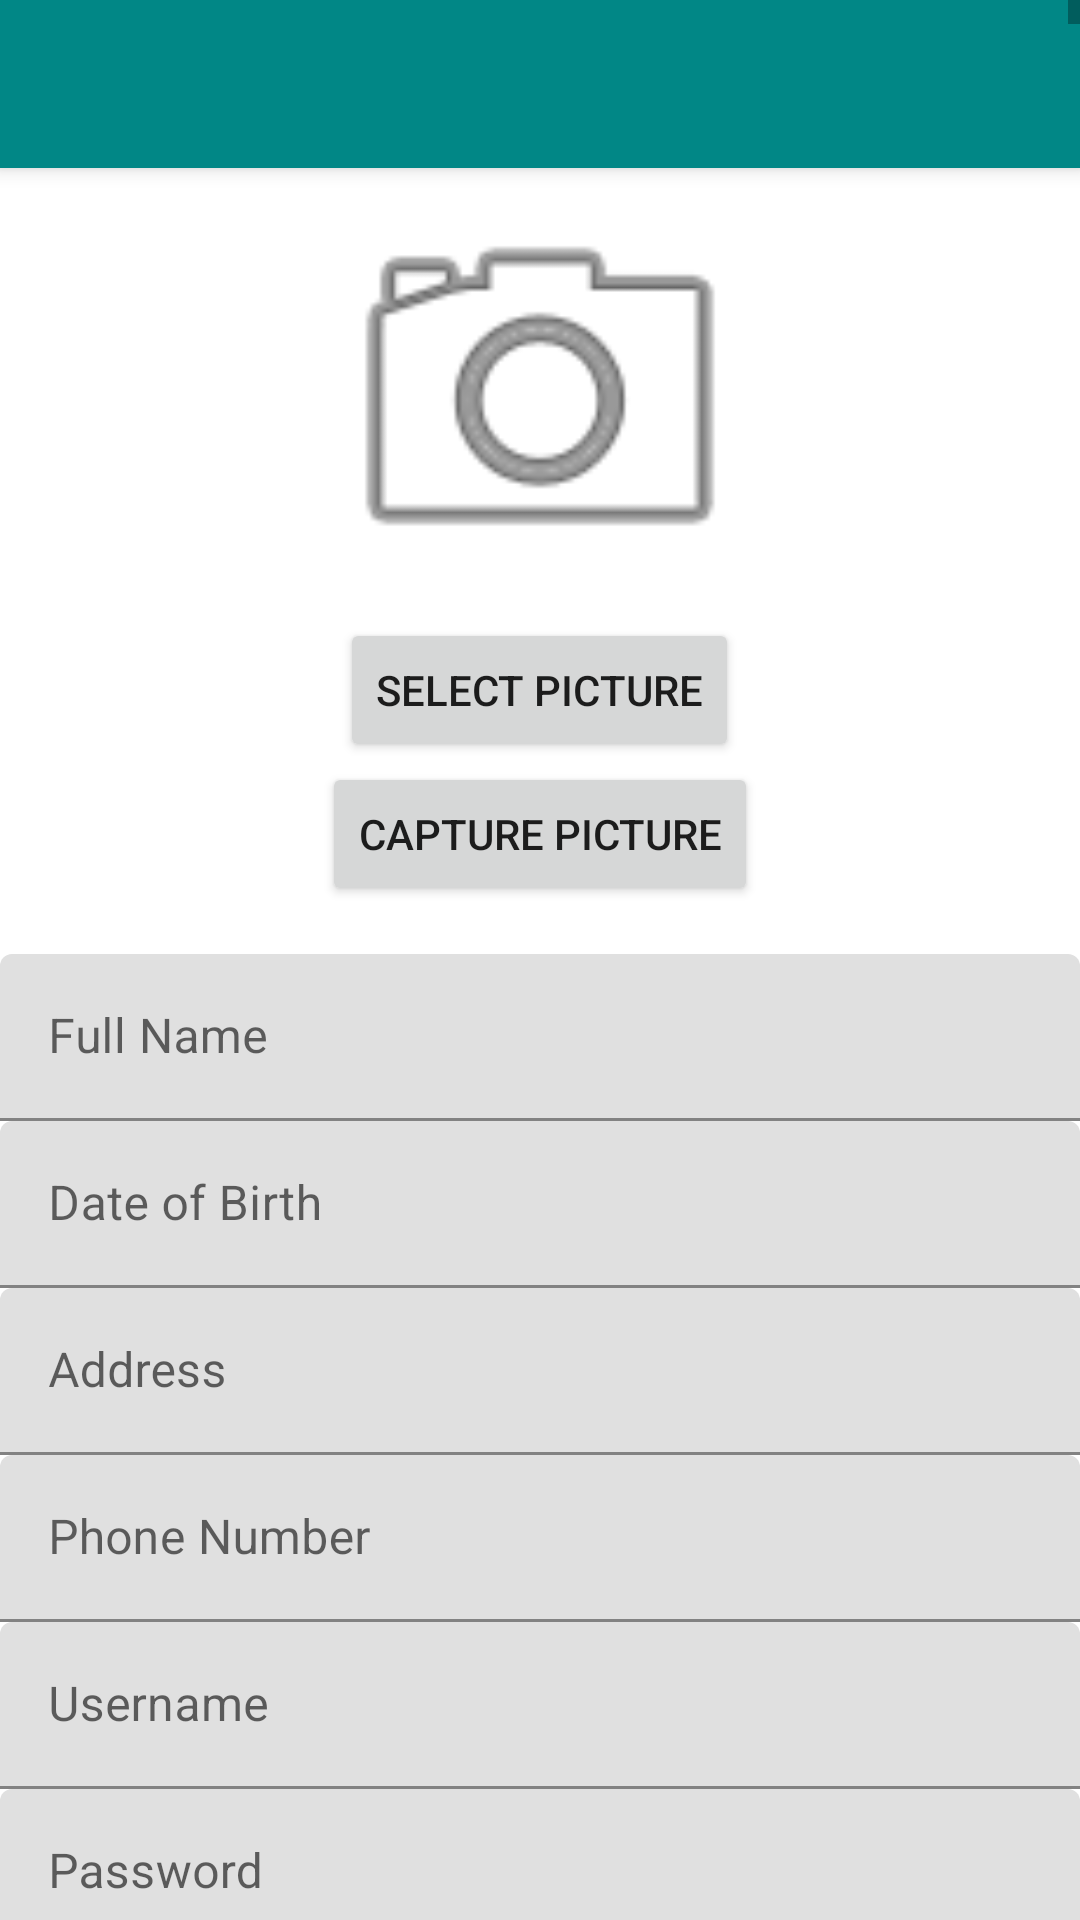

Screen size 1080*1920. Icon name, then its box in pixels as (x1=x1, y1=y1, x2=x2, y2=y2):
camera: (x1=366, y1=247, x2=714, y2=525)
